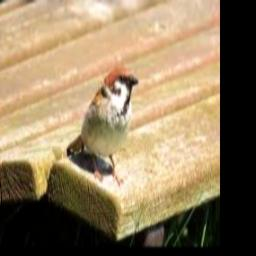Sparrow: (66, 69, 138, 184)
